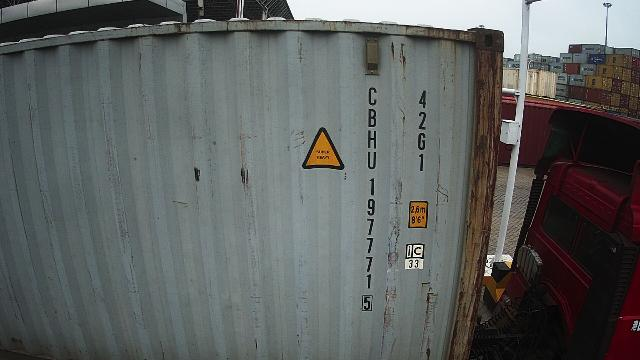1: (369, 178, 375, 196), (366, 273, 372, 289)
5: (362, 296, 372, 310)
7: (366, 236, 374, 254), (367, 218, 375, 236), (365, 256, 373, 272)
9: (366, 198, 376, 216)
B: (367, 108, 377, 128)
C: (368, 86, 378, 106)
H: (368, 130, 377, 150)
U: (368, 152, 377, 170)
